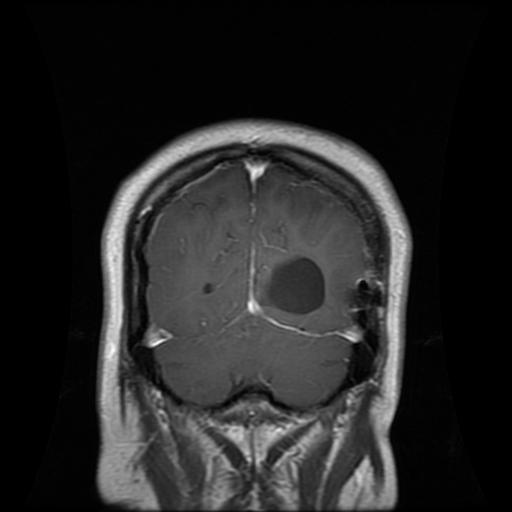Gliomia_tumour: (268, 256, 327, 311)
